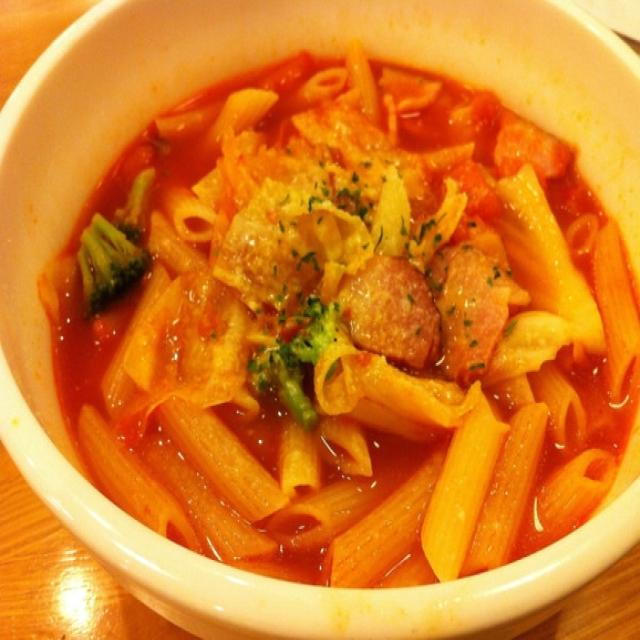汤锅炖物: (10, 10, 636, 608)
